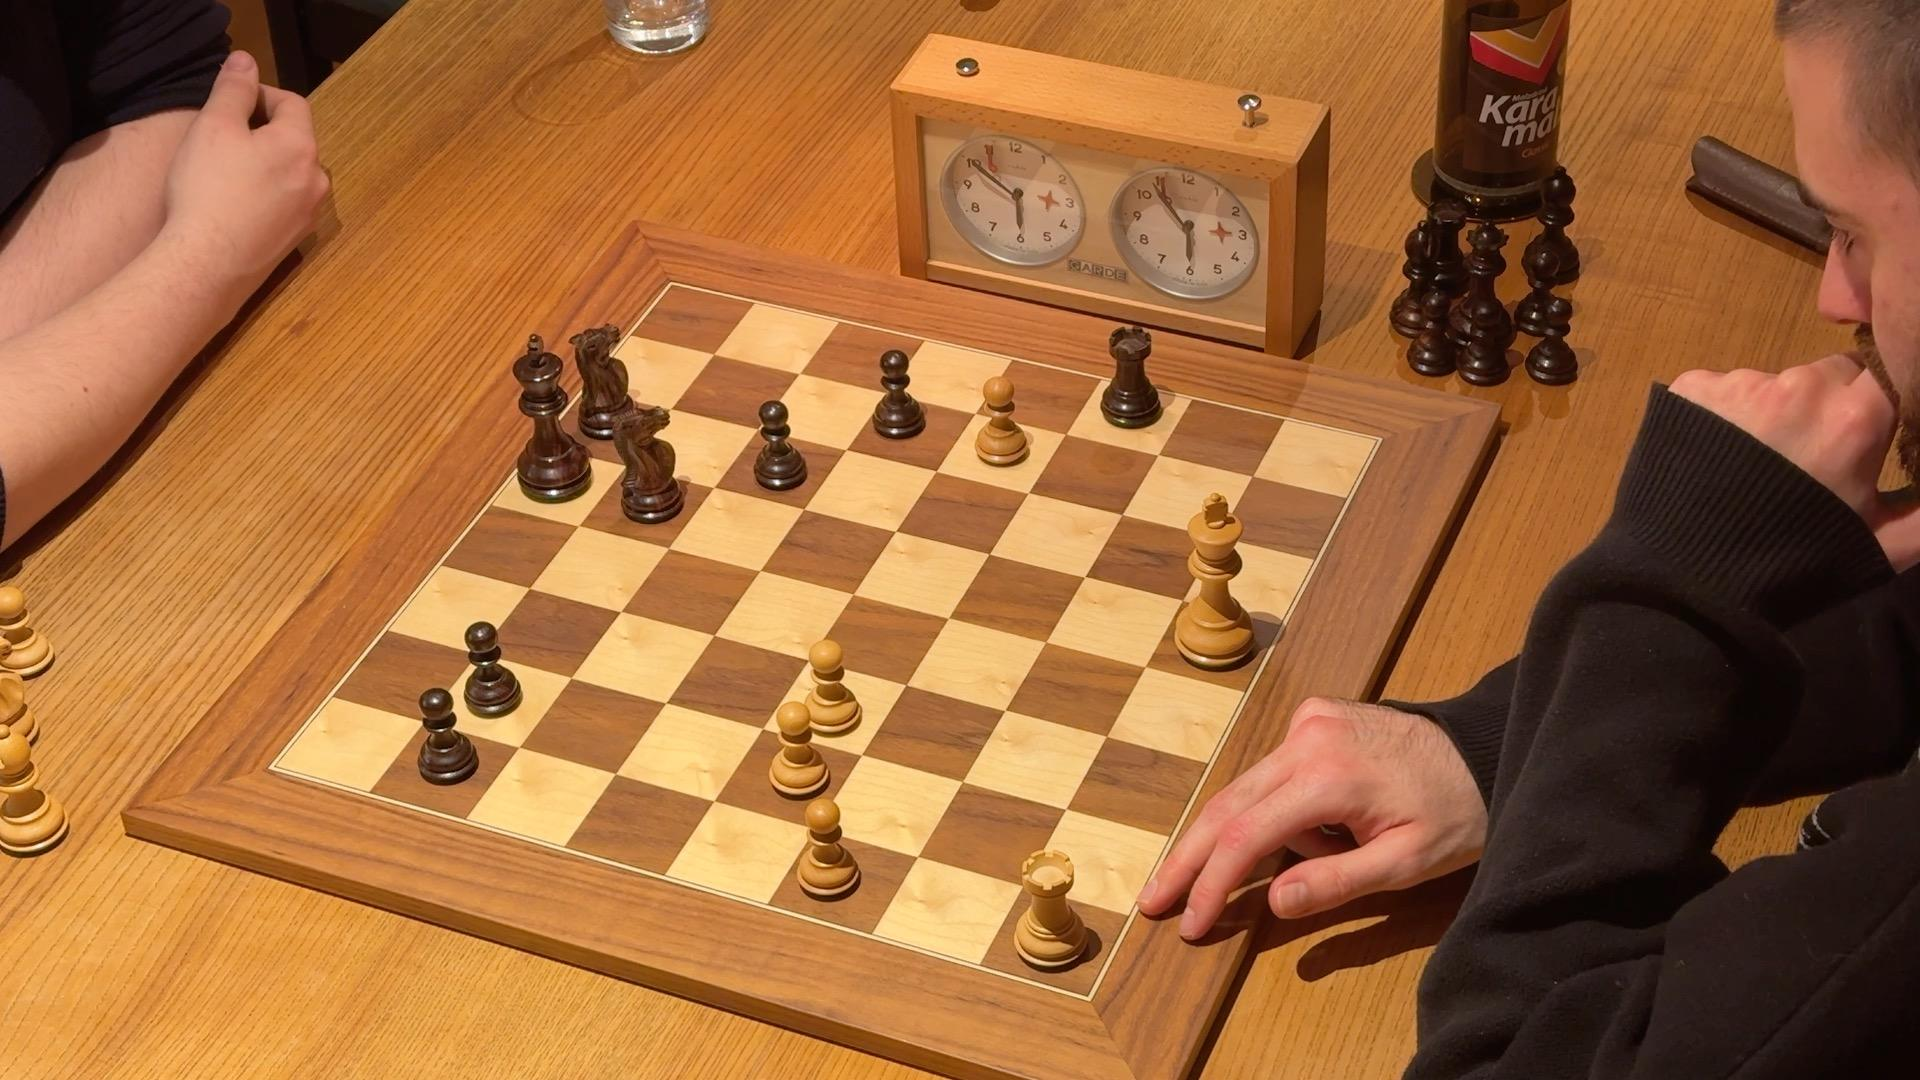Black King: (502, 330, 597, 513)
Black Knight: (599, 400, 698, 533), (564, 323, 651, 444)
Black Pawn: (409, 684, 483, 789), (454, 617, 524, 723), (745, 396, 814, 496), (866, 344, 934, 444)
Black Rook: (1095, 322, 1168, 434)
White King: (1167, 489, 1266, 676)
White Pawn: (793, 793, 862, 909), (764, 696, 835, 806), (799, 628, 866, 738), (967, 376, 1031, 477)
White Rook: (1004, 845, 1095, 977)
